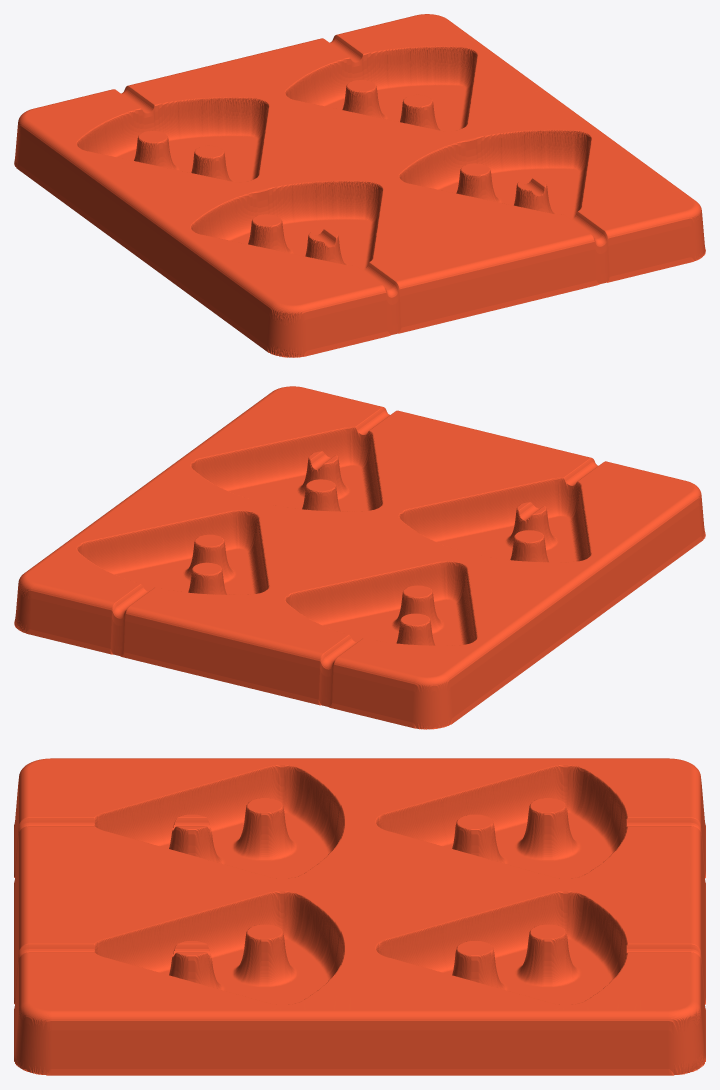
File: mold.glb
The picture shows the model from 3 angles, top to bottom: view 1: azimuth 30°, elevation 25°; view 2: azimuth 150°, elevation 25°; view 3: azimuth 270°, elevation 25°; orthographic projection. The views are drawn at different scales.
Parts seen in each view (by area): view 1: geometry_0; view 2: geometry_0; view 3: geometry_0.
Part boxes in pixels (<box>): geometry_0: <box>14,14,705,357</box>; geometry_0: <box>14,386,705,729</box>; geometry_0: <box>14,758,705,1075</box>.
Size of the model in its own units: 0.1497 by 0.0155 by 0.1659.
